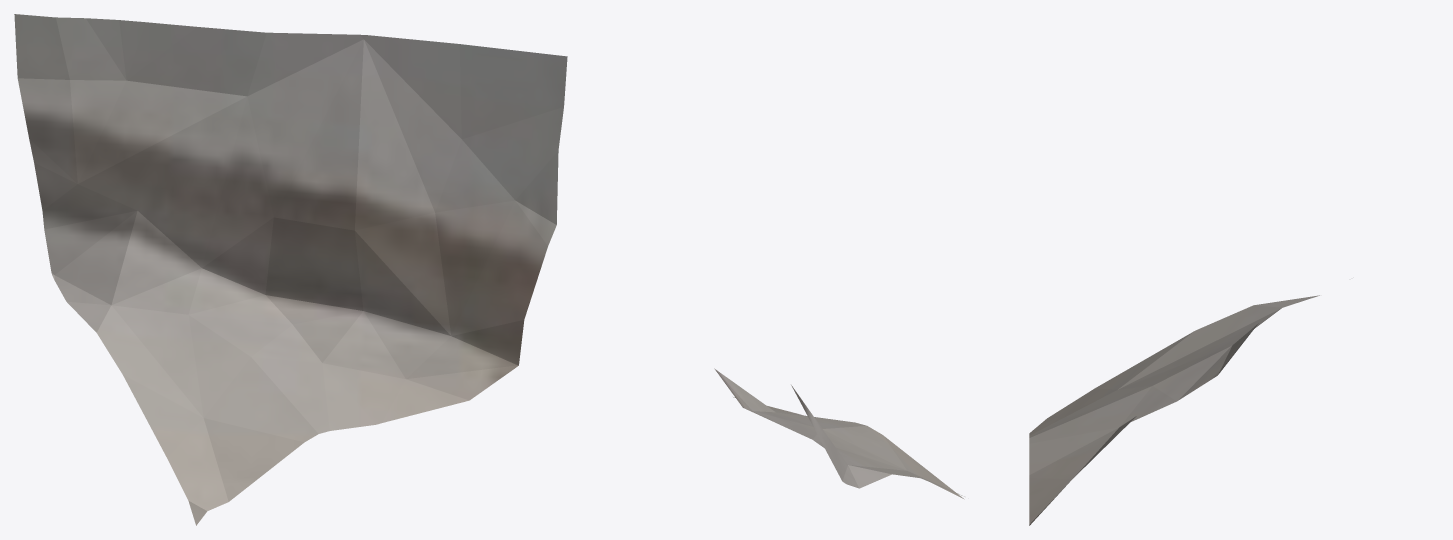
3 views of the same model, side by side, from view 1: azimuth 30°, elevation 25°; view 2: azimuth 150°, elevation 25°; view 3: azimuth 270°, elevation 25° (orthographic). The views are drawn at different scales.
Size of the model in its own units: 0.2176 by 0.2122 by 0.1845.
1 material, 1 textured.
